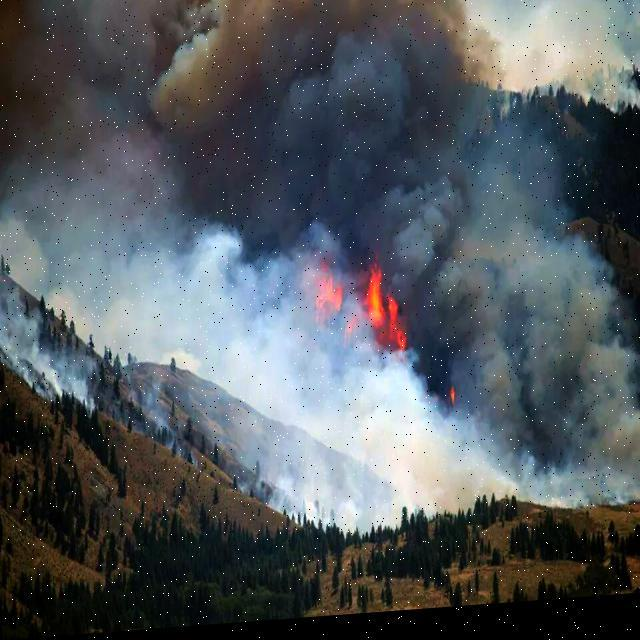Fire: (312, 251, 458, 427)
